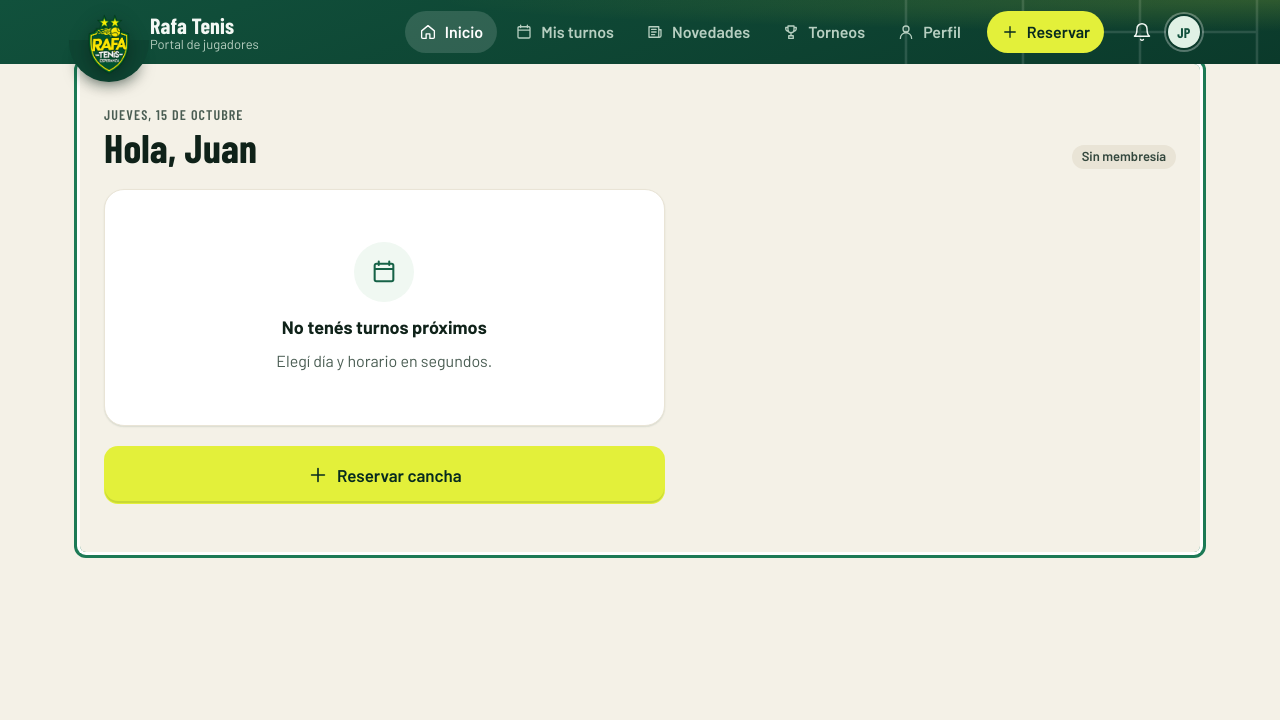
Test: PlayerPortal › consulta únicamente el club elegido y descarta lo del otro al cambiar de club
Expected: the text "Sin membresía" is shown, [1072, 145, 1176, 169]
Step 1. Click the button with aria-label "Cuenta" → (1184, 32), box [1168, 16, 1200, 48]
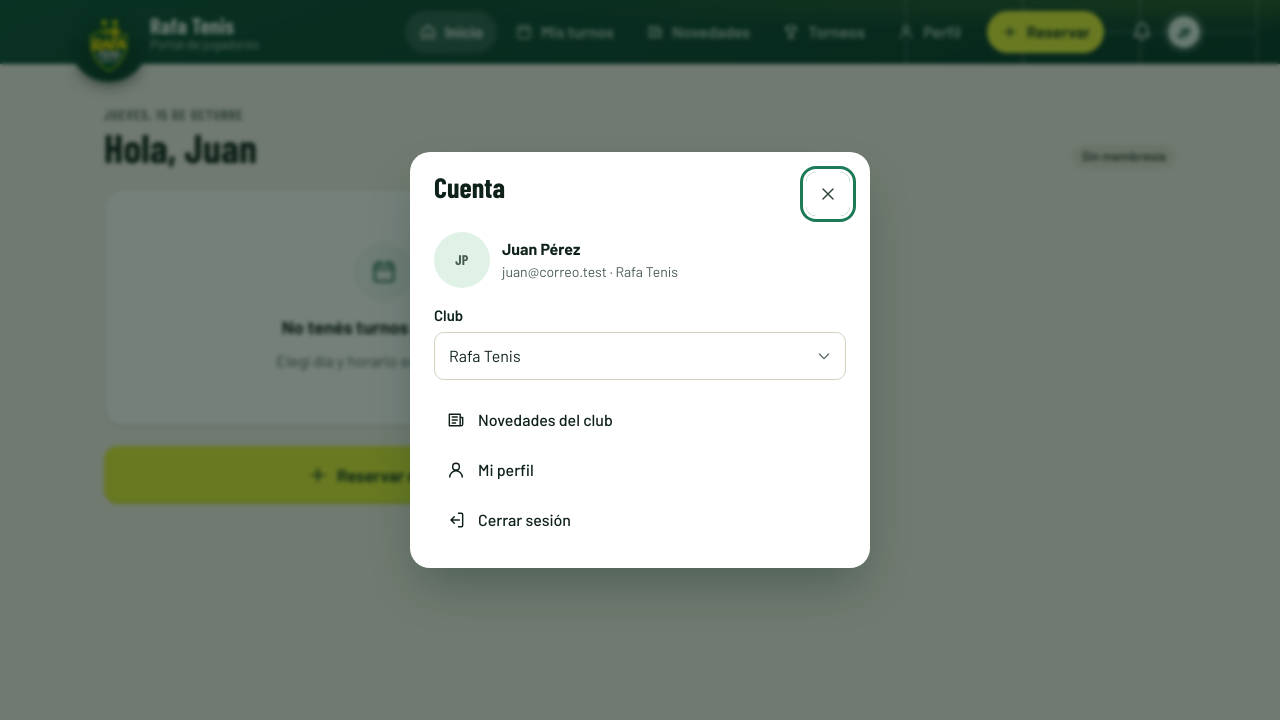
Step 2. Select "Club Norte" in the dropdown labelled "Club" → (640, 356), box [434, 332, 846, 380]
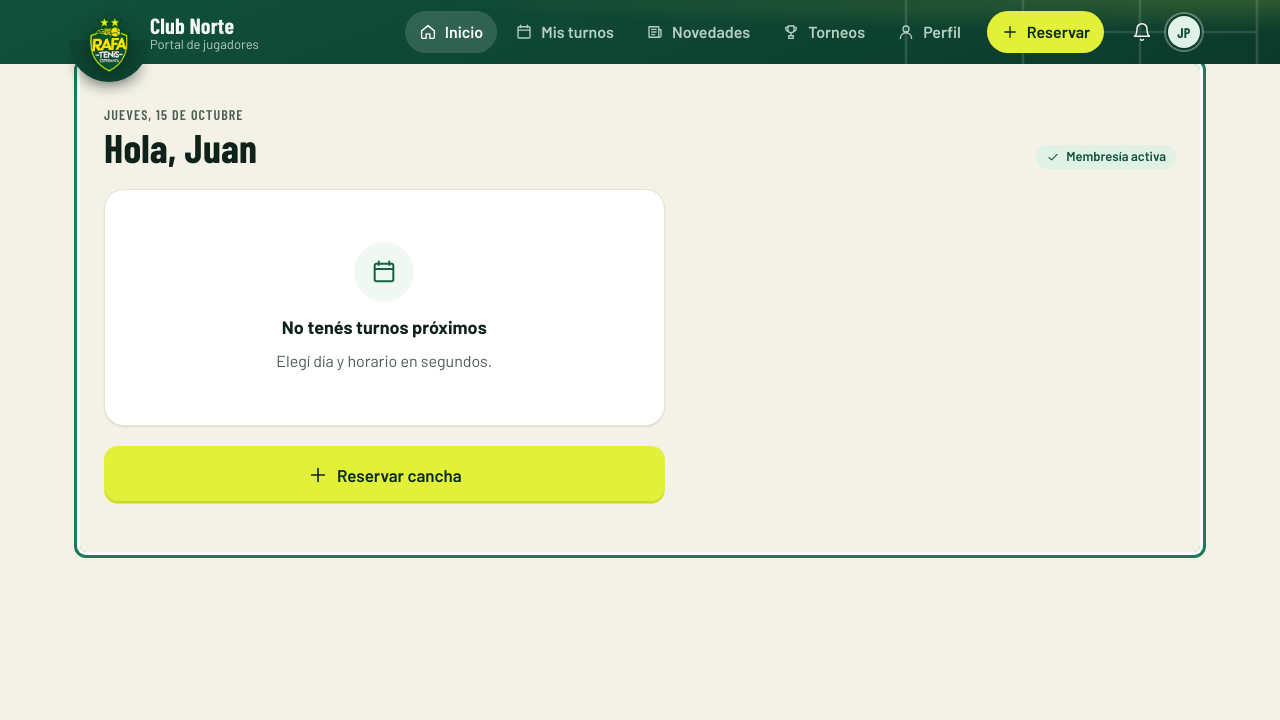
Expected: the text "Membresía activa" is shown, [1036, 145, 1176, 169]
Expected: the text "Sin membresía" is gone
